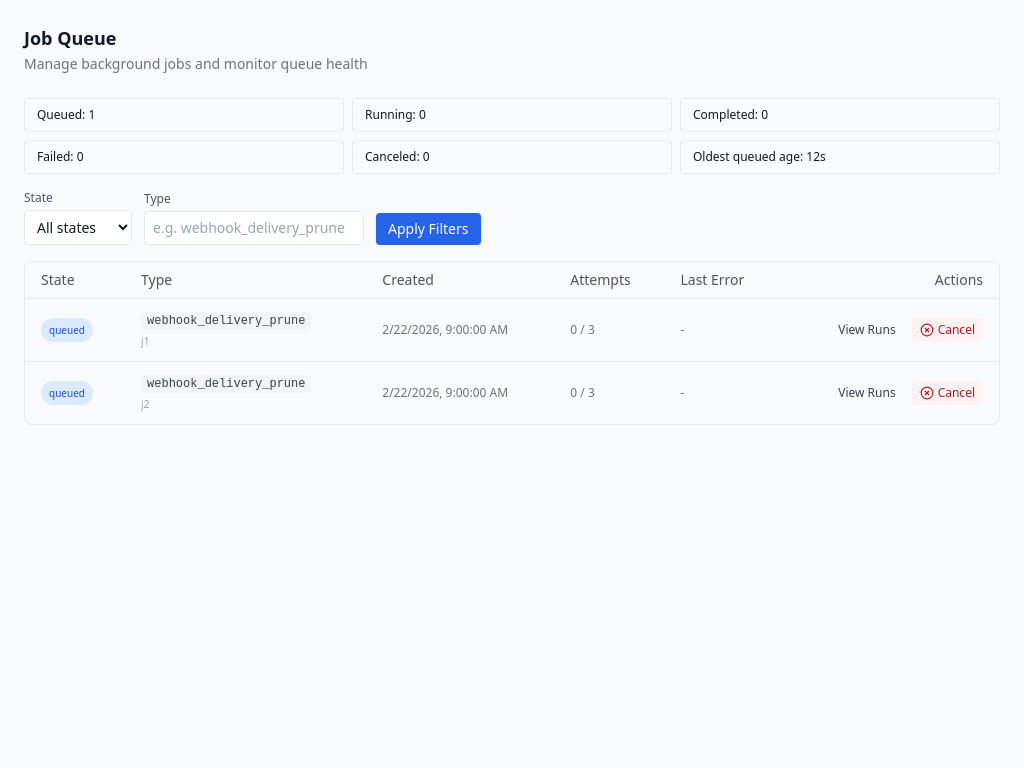
Jobs › clears stale run history while switching and closing selection
Expected: the button with aria-label "View runs for job j2" is shown, [830,381,904,405]
Click the button with aria-label "View runs for job j1" at (867, 330), box [830,318,904,342]
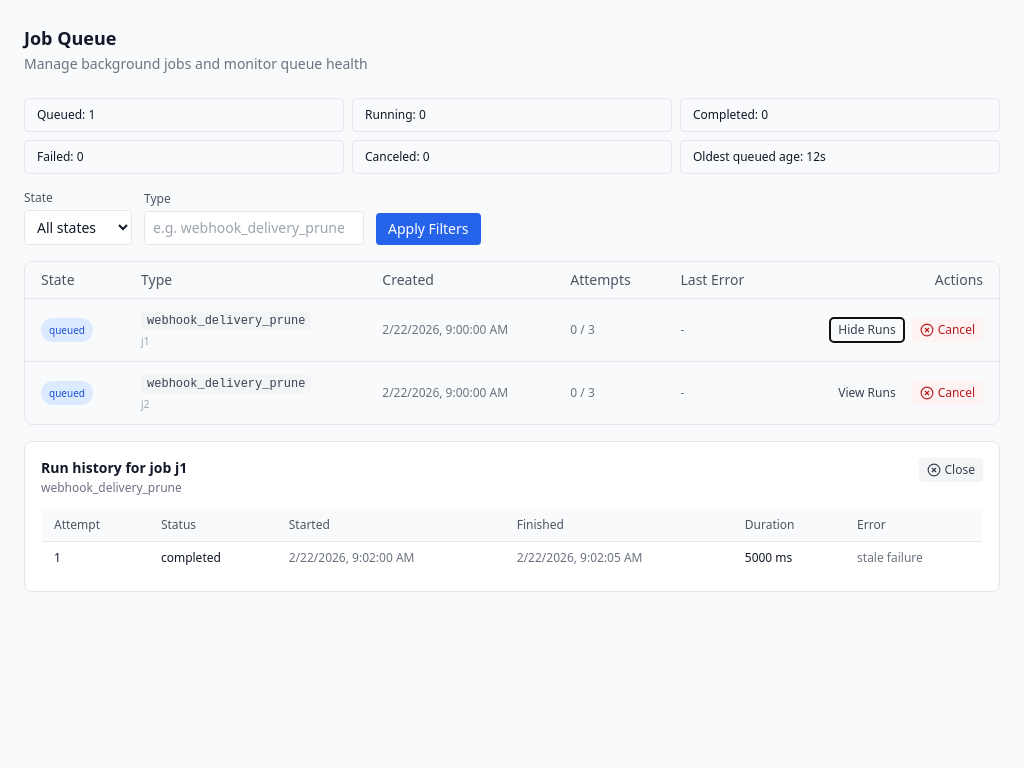
Expected: the text "stale failure" is shown, [845,542,982,574]
Click the button with aria-label "View runs for job j2" at (867, 393), box [830,381,904,405]
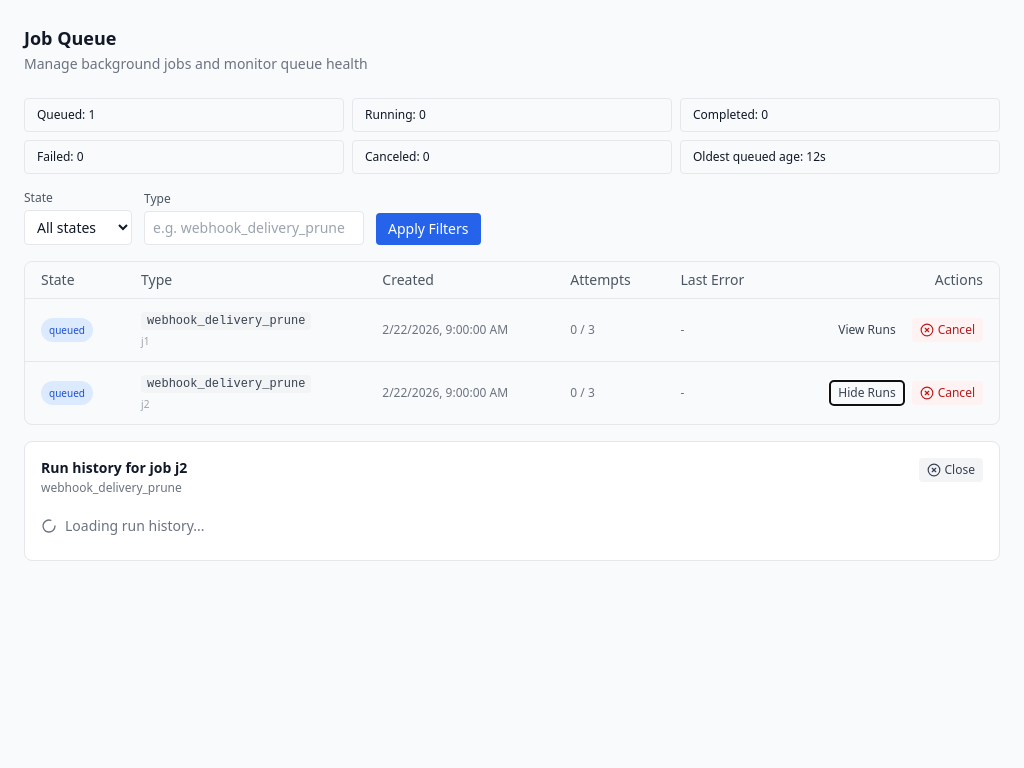
Expected: the text "stale failure" is gone
Expected: the text "Loading run history..." is shown, [41,516,205,535]
Click the button with aria-label "Close run history" at (951, 470), box [918,458,983,482]
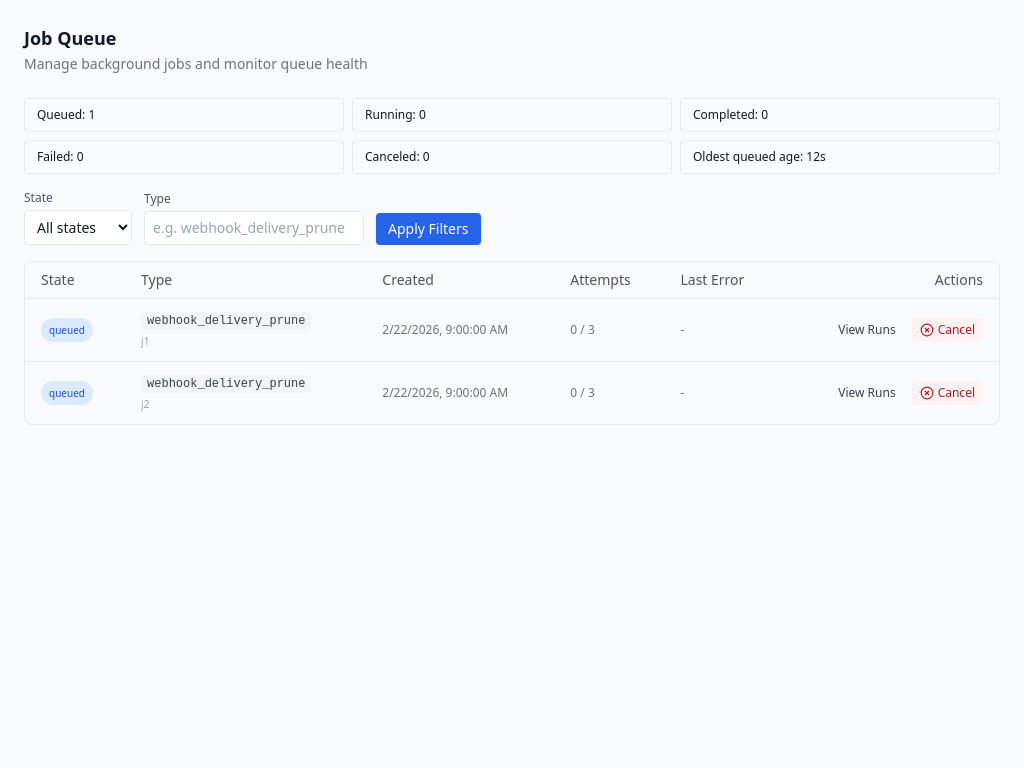
Expected: the heading "Run history for job j2" is gone
